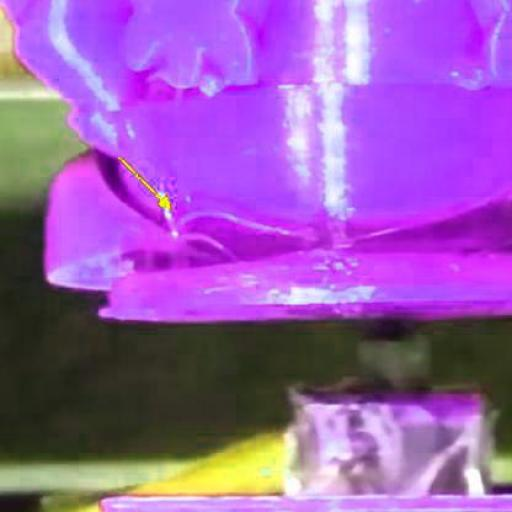spaghetti: (169, 203, 336, 277)
